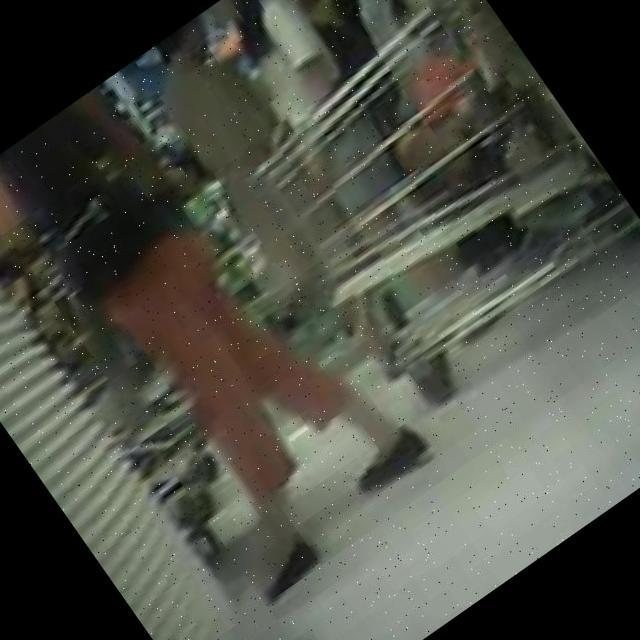person: (0, 46, 446, 640), (130, 8, 448, 404), (202, 0, 512, 355), (255, 0, 373, 75), (296, 0, 427, 50)
